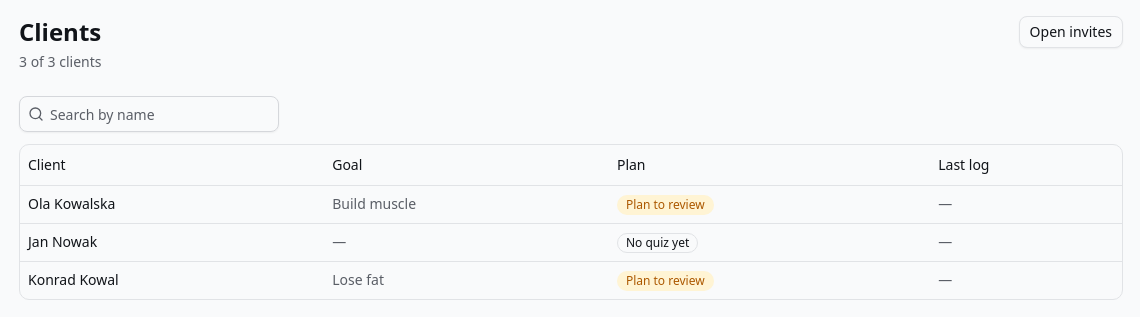
Test case: ClientsPage › search › keeps the clients whose name contains the text, whatever the letter case
In the search field named "Search clients by name": (161, 114) x1=44 y1=96 x2=278 y2=132, type "KO"
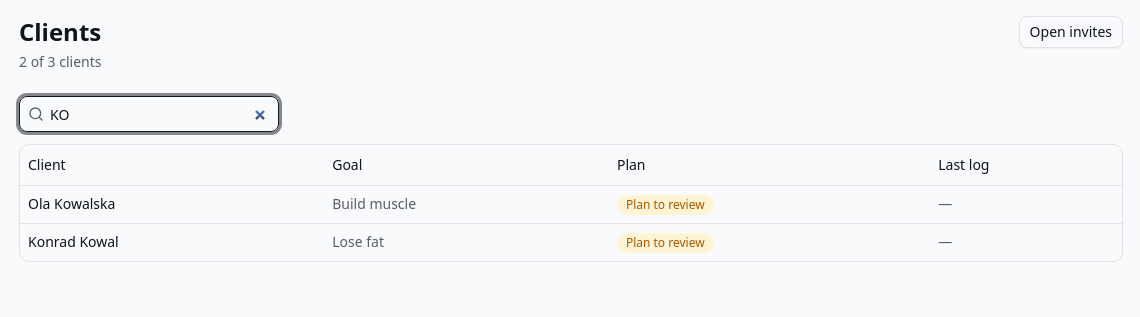
Result: the message reads "2 of 3 clients" at x1=19 y1=52 x2=102 y2=71
